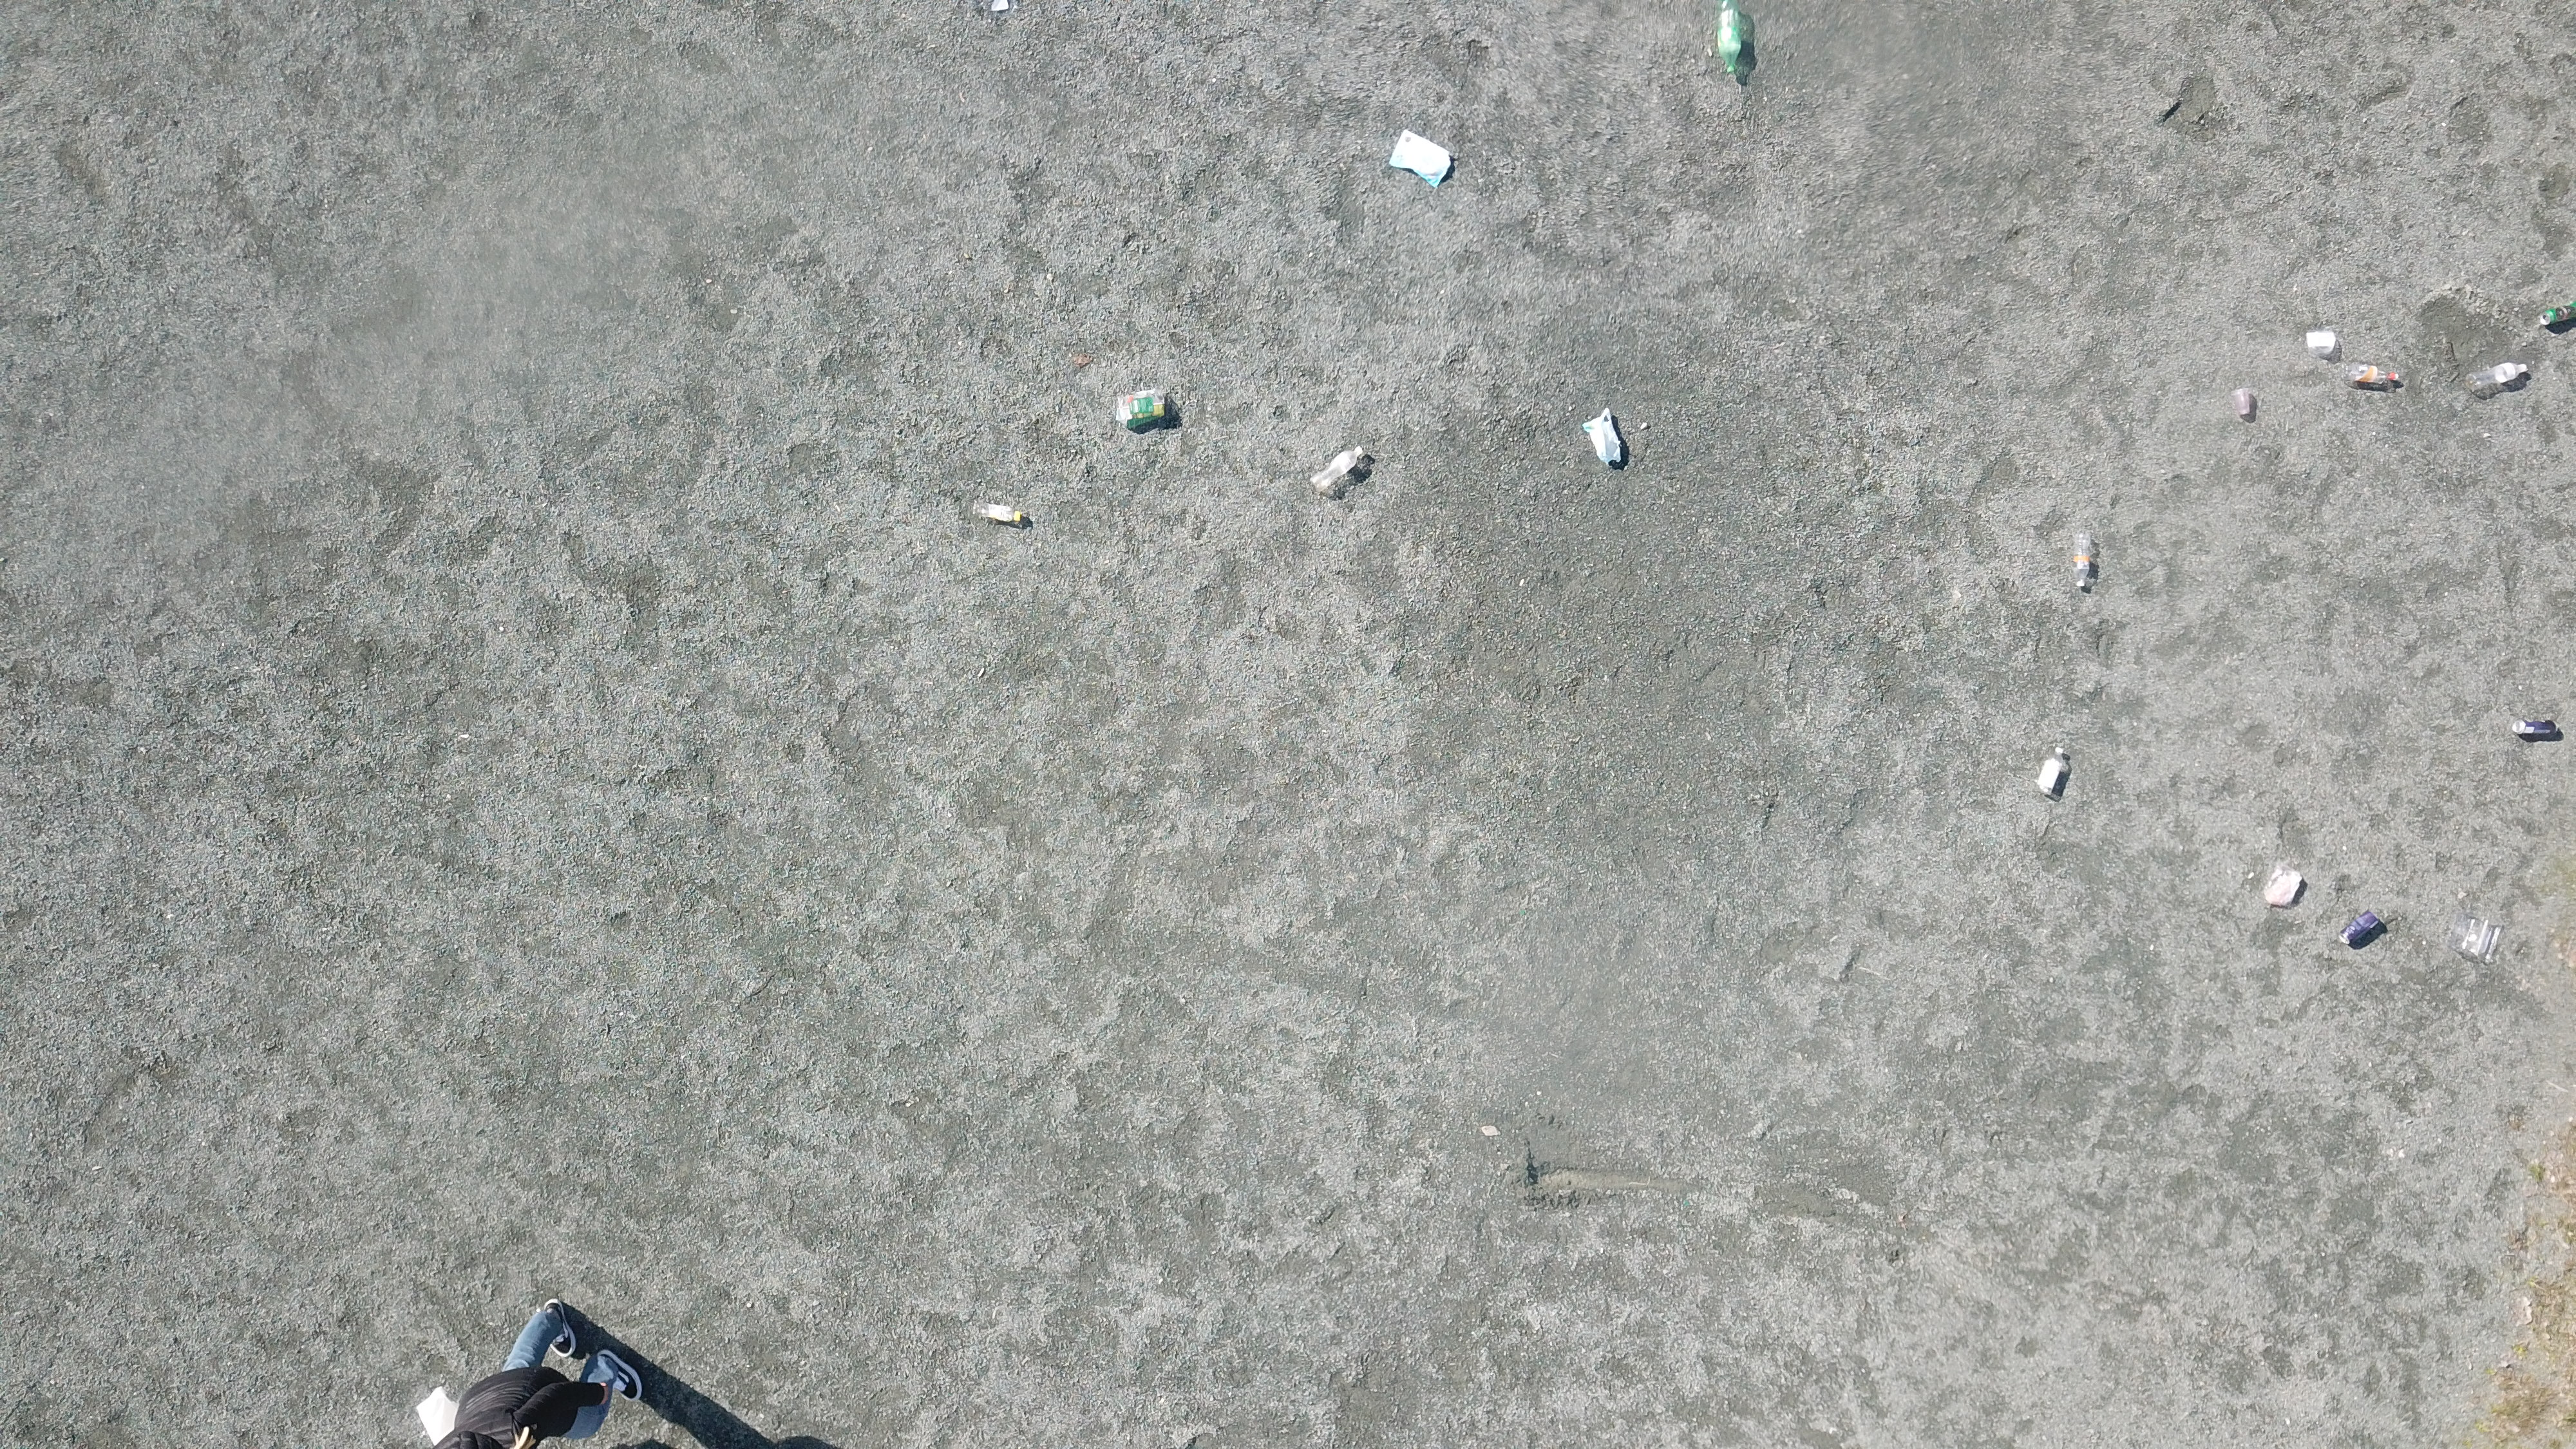Can: (2339, 909, 2380, 948), (2511, 720, 2560, 741), (2539, 303, 2576, 329)
Plastic: (1389, 129, 1454, 188), (2449, 913, 2507, 966), (1582, 409, 1626, 469), (1115, 387, 1168, 432), (2263, 867, 2304, 908), (2305, 329, 2341, 359), (2231, 387, 2252, 418), (987, 0, 1010, 14)
PlasticBottle: (1311, 446, 1366, 495), (1714, 0, 1743, 74), (2465, 361, 2528, 391), (2036, 747, 2065, 798), (2346, 363, 2401, 386), (973, 501, 1023, 525), (2070, 533, 2091, 589)
